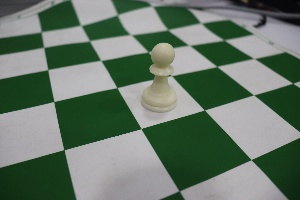white_pawn: (137, 32, 187, 122)
